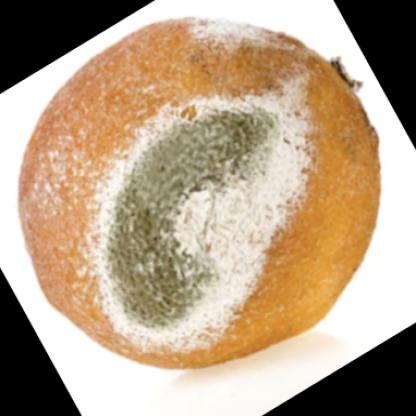rotten: (22, 16, 380, 372)
